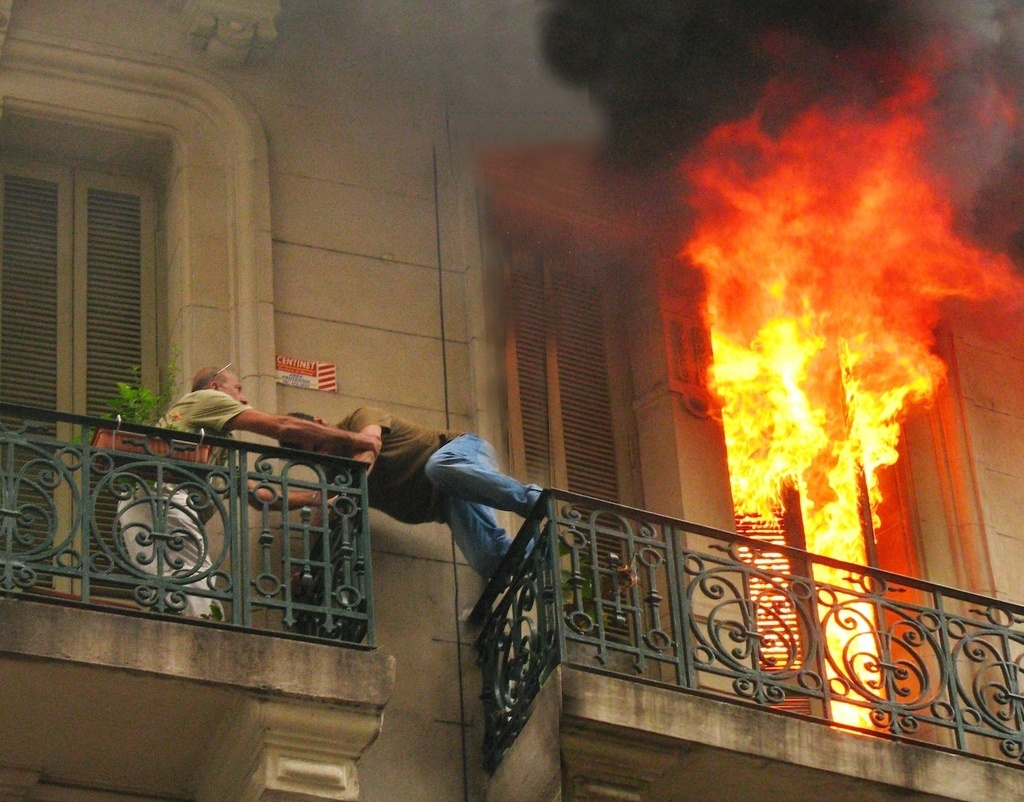fire: (684, 79, 1007, 744)
